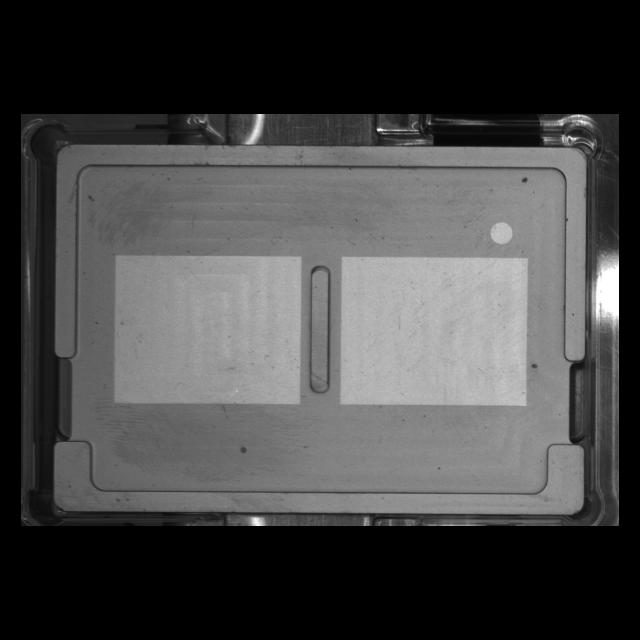door: (45, 428, 595, 524)
point: (488, 216, 518, 247)
